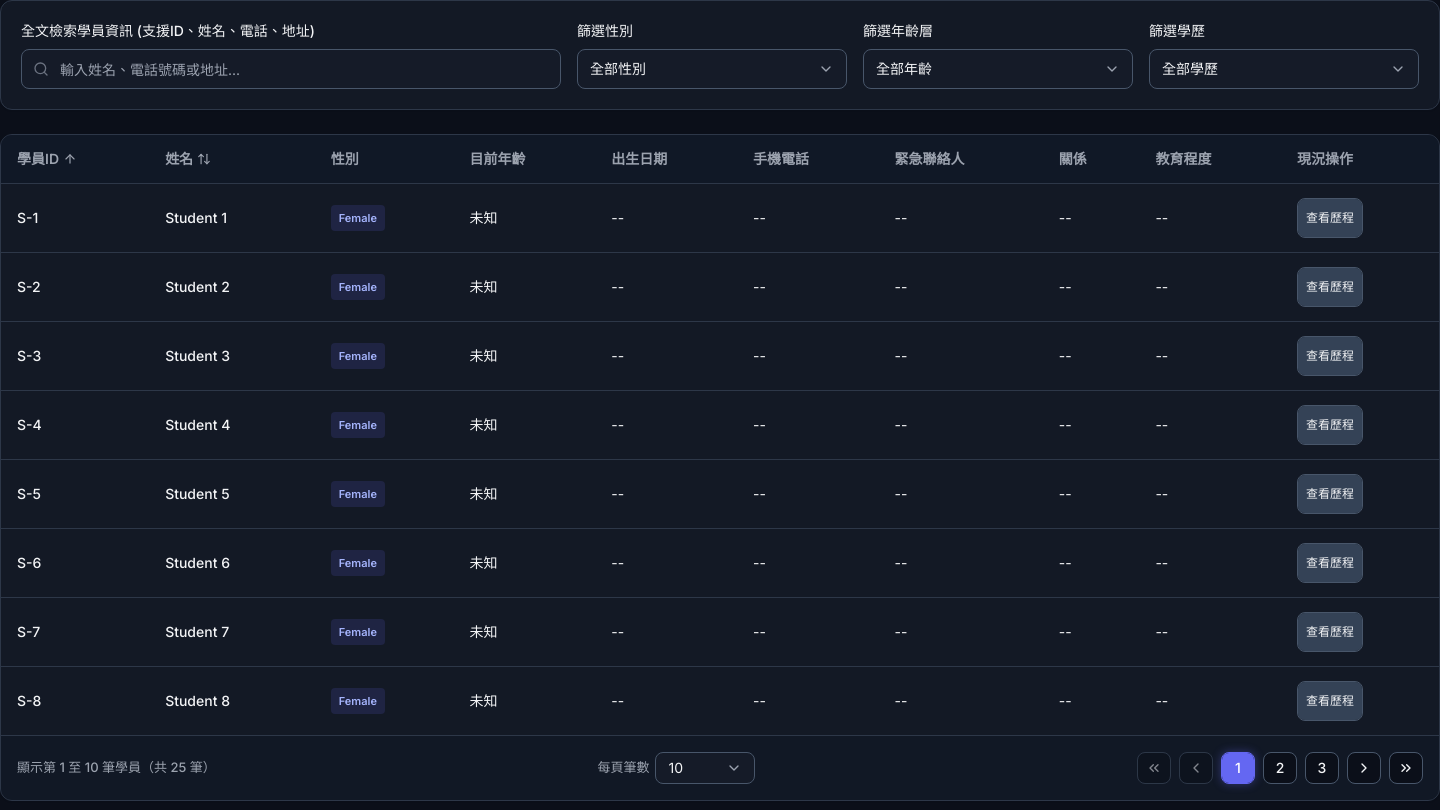
Test case: StudentListTab list navigation › changes page size and returns to the first page
The width and height of the screenshot is (1440, 810).
What coordinates should you click on to do the following:
click the button with id "btn-student-last"
I would click on:
 (1406, 768)
Its box is [1389, 752, 1423, 784].
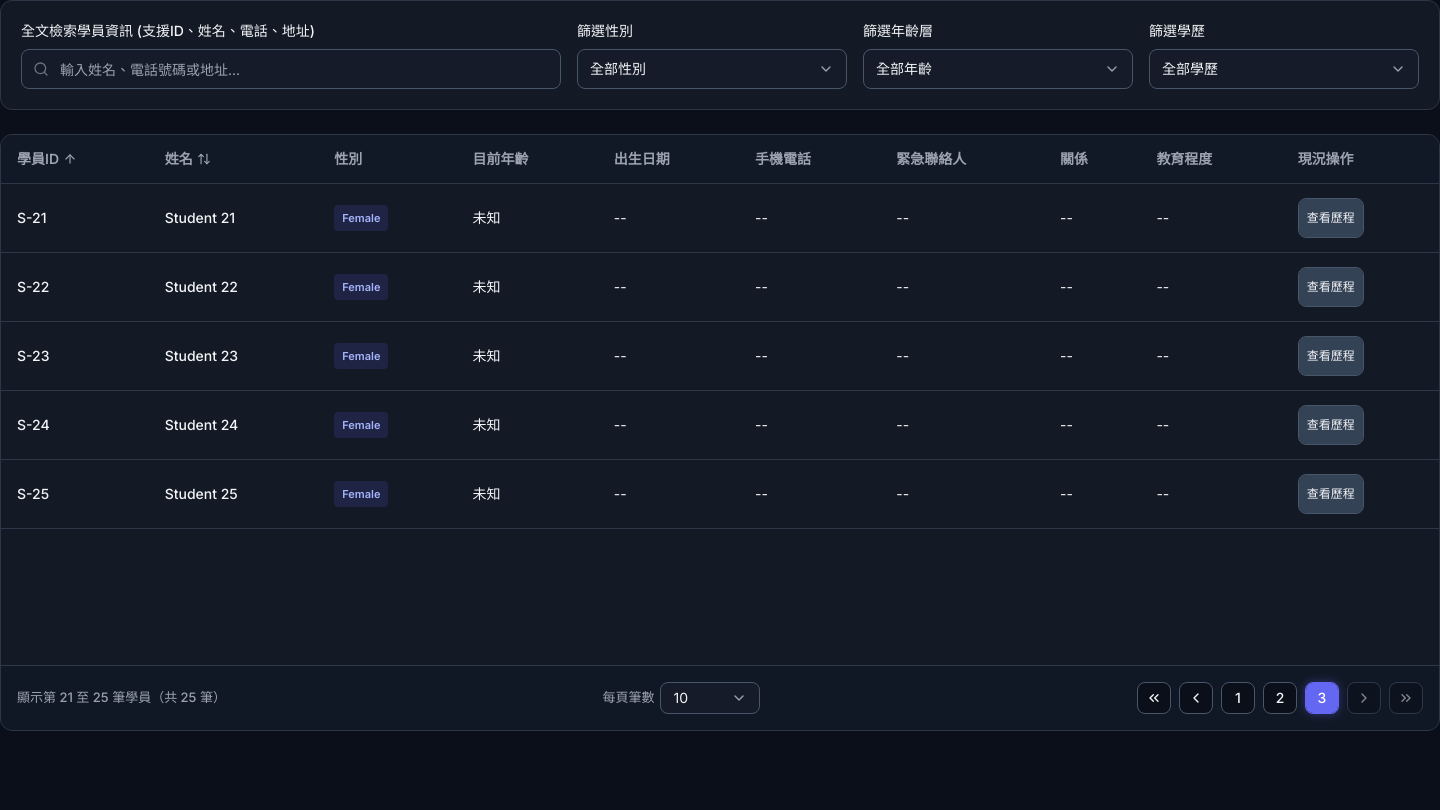
Result: the text "Student 21" is shown at [149, 184, 318, 252]
What coordinates should you click on to do the following:
click the dropdown named "每頁筆數"
I would click on:
 (710, 698)
Its box is [660, 682, 760, 714].
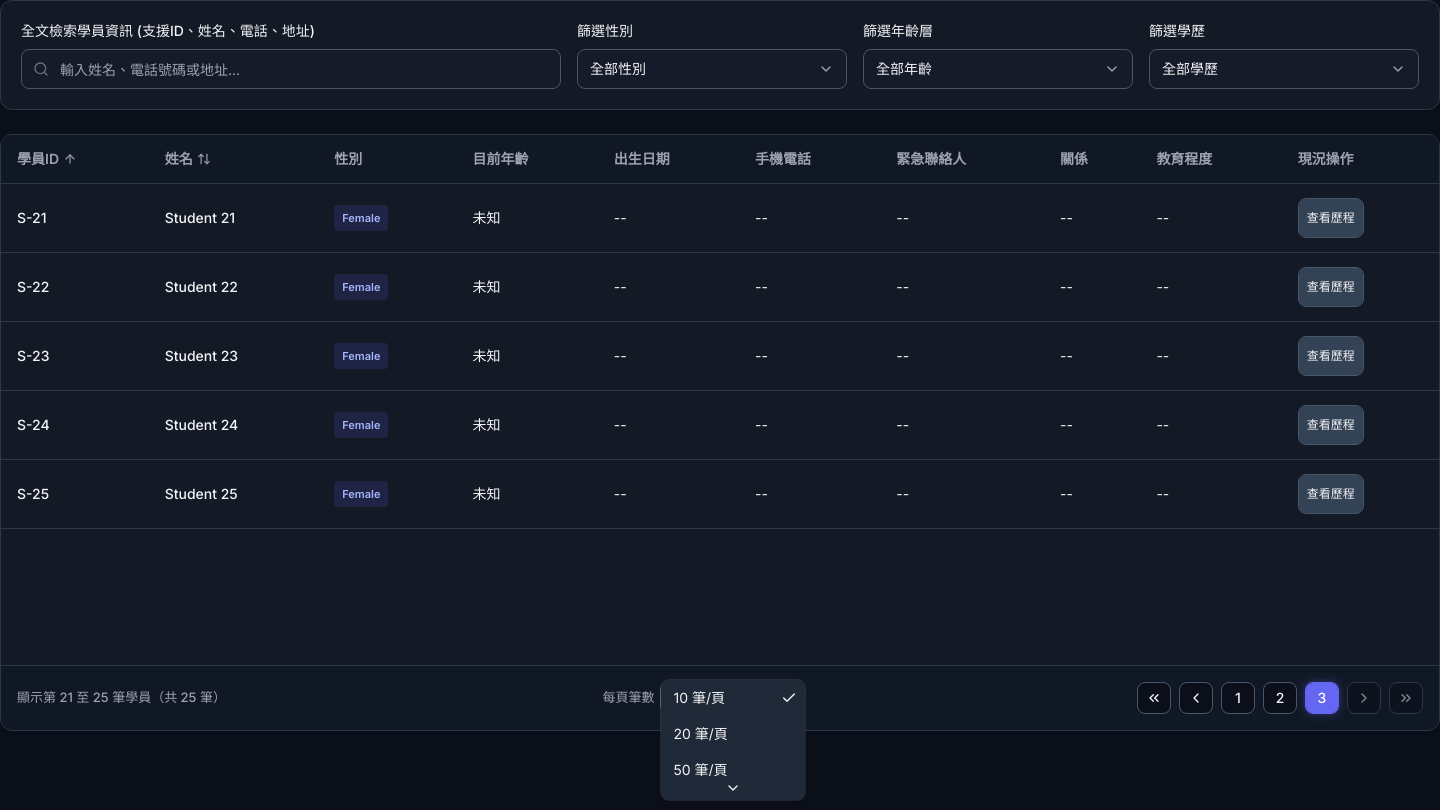
What coordinates should you click on to do the following:
click the option "20 筆/頁"
I would click on:
 (701, 734)
Its box is [674, 725, 728, 742].
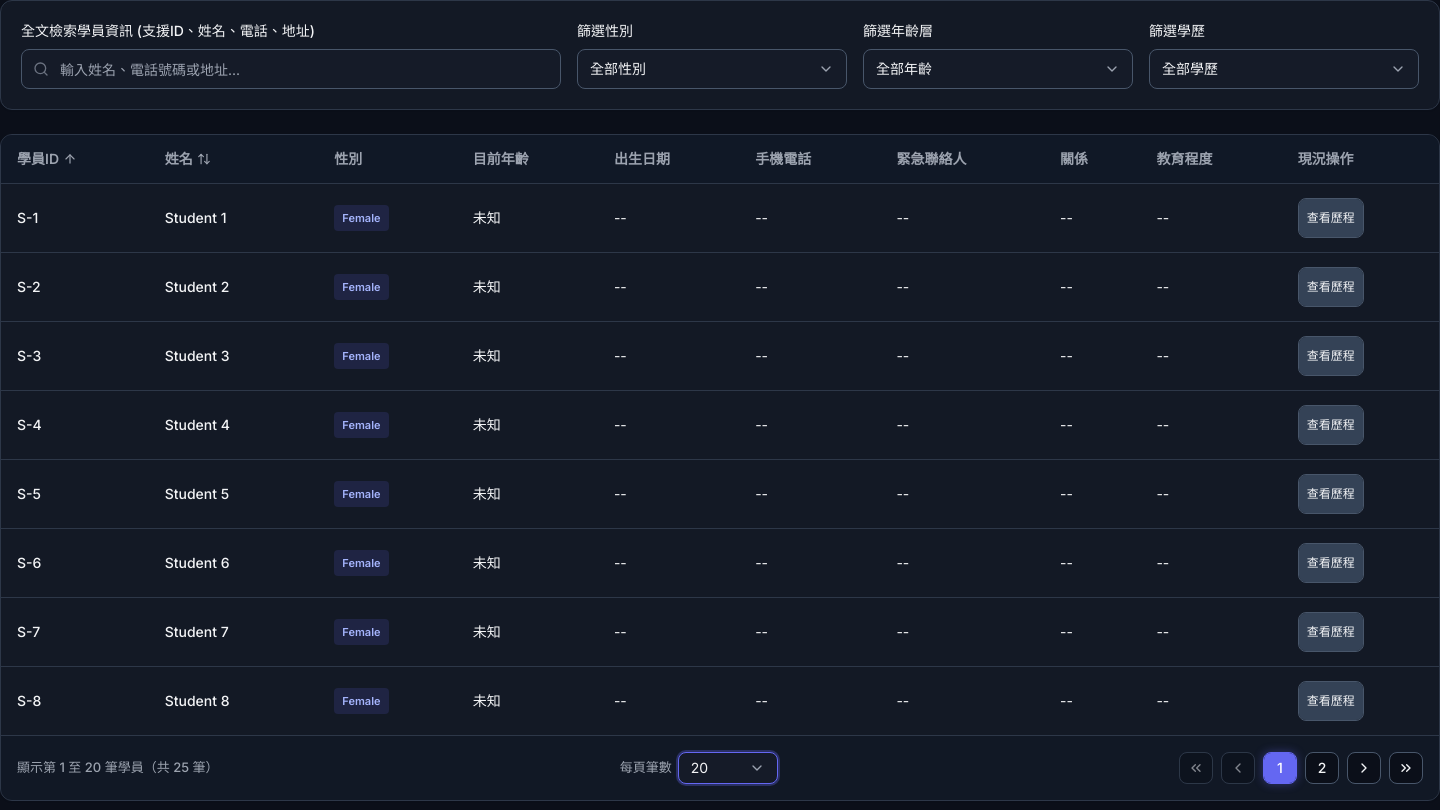
Result: the text "Student 1" is shown at [149, 184, 318, 252]
Result: the text "Student 21" is gone
